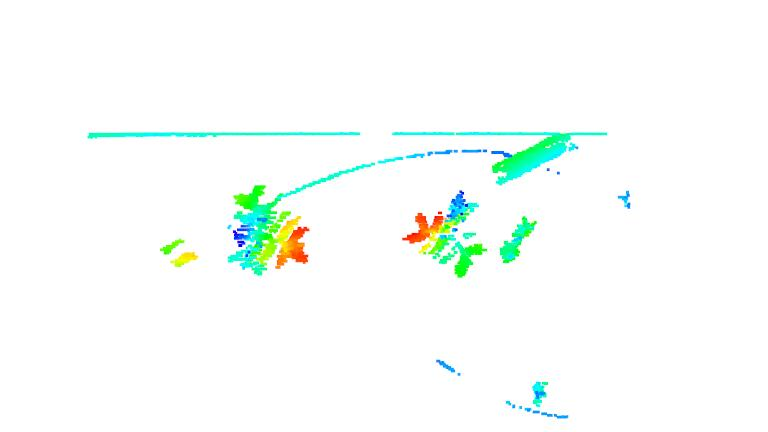chickpea: (227, 181, 308, 278), (402, 190, 491, 278), (495, 216, 540, 266), (156, 231, 196, 271)
